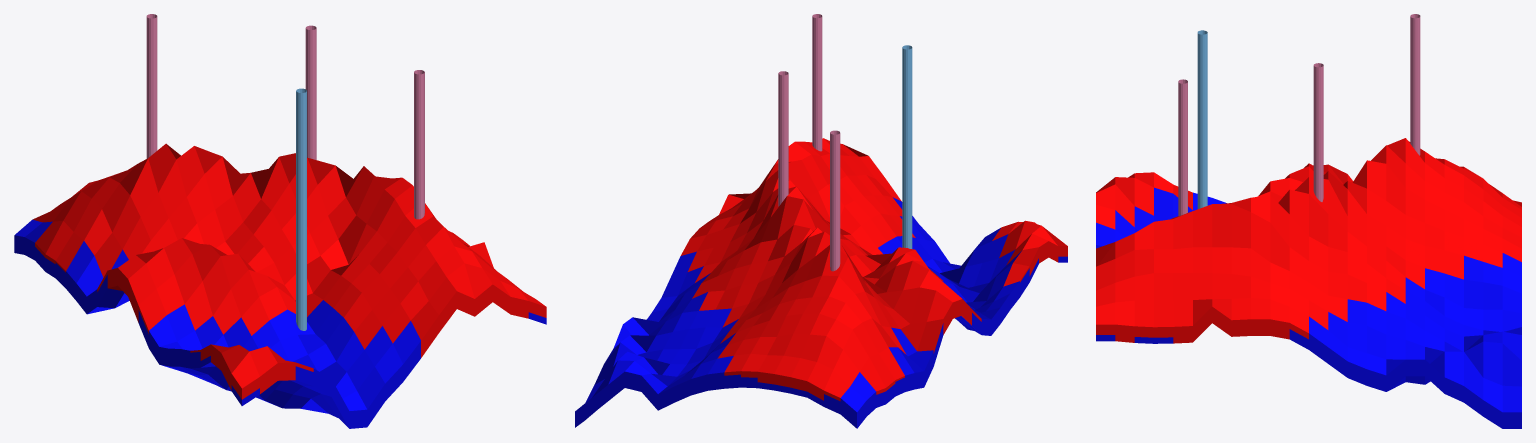
File: oil-saturation-v1.glb
3 renders of one model, left to right at view 1: azimuth 30°, elevation 25°; view 2: azimuth 150°, elevation 25°; view 3: azimuth 270°, elevation 25°, orthographic. The views are drawn at different scales.
Visible parts, largest first — view 1: reservoir, INJ, PROD-2, PROD-3, PROD-1; view 2: reservoir, INJ, PROD-2, PROD-3, PROD-1; view 3: reservoir, INJ, PROD-2, PROD-1, PROD-3.
Part boxes in pixels (bbox=[...]): reservoir: bbox=[14, 143, 546, 428]; INJ: bbox=[296, 88, 306, 330]; PROD-2: bbox=[146, 14, 157, 158]; PROD-3: bbox=[414, 70, 424, 219]; PROD-1: bbox=[305, 25, 316, 159]; reservoir: bbox=[575, 138, 1067, 428]; INJ: bbox=[902, 45, 912, 248]; PROD-2: bbox=[830, 130, 840, 271]; PROD-3: bbox=[812, 14, 822, 151]; PROD-1: bbox=[778, 71, 788, 206]; reservoir: bbox=[1096, 138, 1521, 428]; INJ: bbox=[1197, 30, 1207, 208]; PROD-2: bbox=[1410, 14, 1420, 155]; PROD-1: bbox=[1313, 63, 1323, 201]; PROD-3: bbox=[1178, 79, 1187, 216].
Size of the model in its own units: 0.3864 by 0.4023 by 0.5.
Materials: 3 (1 with a texture image).
